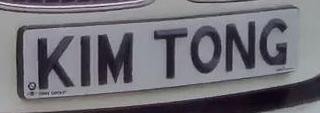0: (189, 20, 223, 82)
1: (73, 28, 98, 92)
G: (257, 11, 295, 75)
K: (32, 31, 79, 96)
M: (92, 25, 138, 92)
N: (222, 16, 259, 79)
T: (149, 22, 192, 83)
